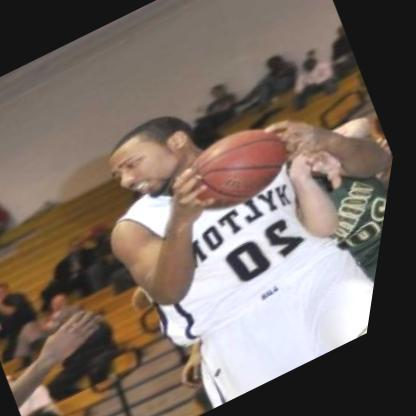basketball: (168, 109, 314, 231)
